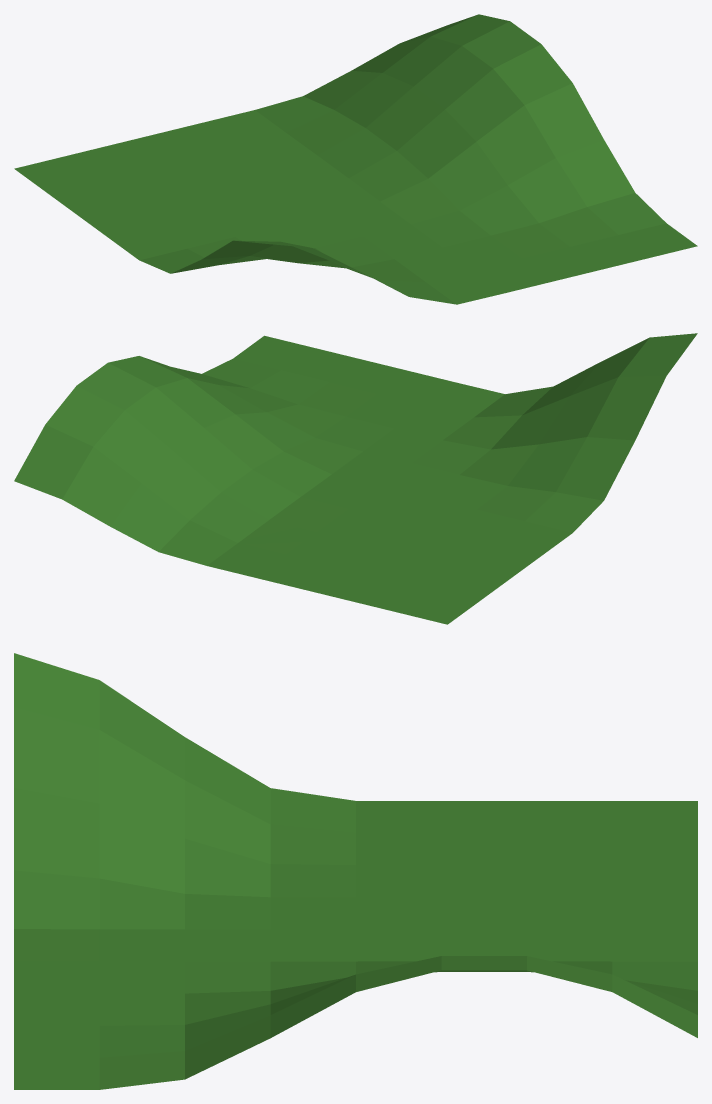
Rendered from groundMesh.gltf.
The picture shows the model from 3 angles, top to bottom: view 1: azimuth 30°, elevation 25°; view 2: azimuth 150°, elevation 25°; view 3: azimuth 270°, elevation 25°; orthographic projection. The views are drawn at different scales.
Parts seen in each view (by area): view 1: Terrain.001; view 2: Terrain.001; view 3: Terrain.001.
Boxes of the visible parts, x1=… form: Terrain.001: x1=14, y1=14, x2=697, y2=304; Terrain.001: x1=14, y1=333, x2=697, y2=624; Terrain.001: x1=14, y1=653, x2=697, y2=1089.
Bounding box in the file's own units: 26.02 × 6.21 × 26.02.
1 material, 1 textured.
